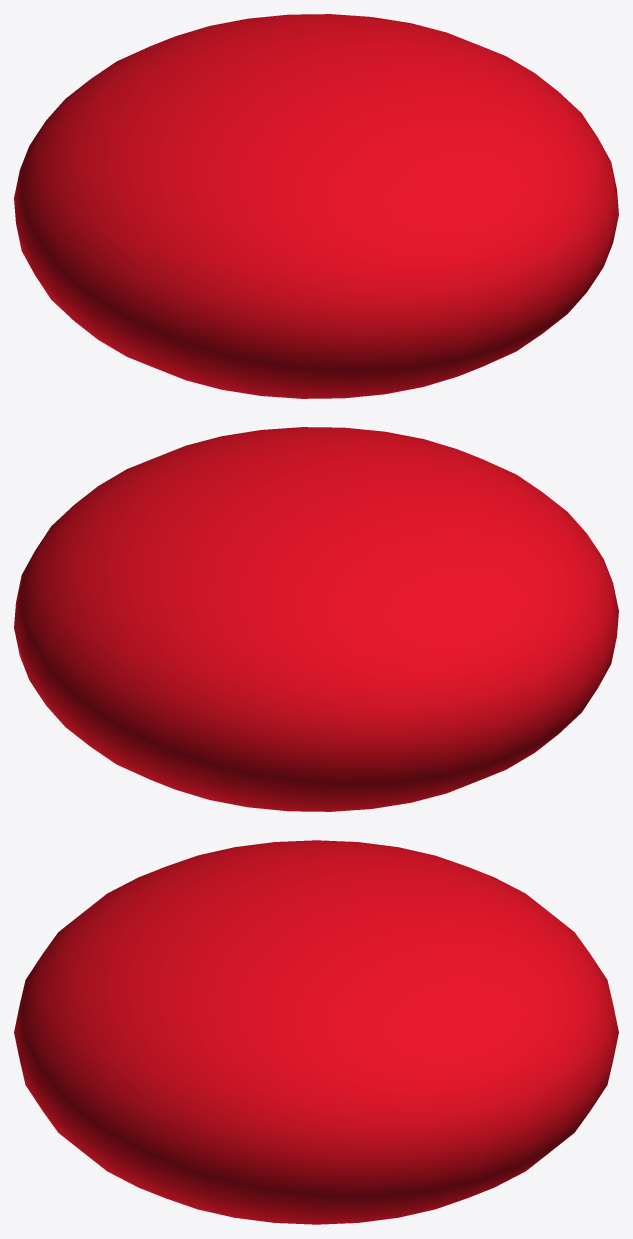
Rendered from ball.gltf.
3 views of the same model, one above another, from view 1: azimuth 30°, elevation 25°; view 2: azimuth 150°, elevation 25°; view 3: azimuth 270°, elevation 25° (orthographic).
Visible parts, largest first — view 1: Sphere.001; view 2: Sphere.001; view 3: Sphere.001.
Boxes of the visible parts, x1=… form: Sphere.001: x1=14, y1=14, x2=618, y2=398; Sphere.001: x1=14, y1=427, x2=618, y2=811; Sphere.001: x1=14, y1=840, x2=618, y2=1224.
Bounding box in the file's own units: 2 × 1.05 × 2.
